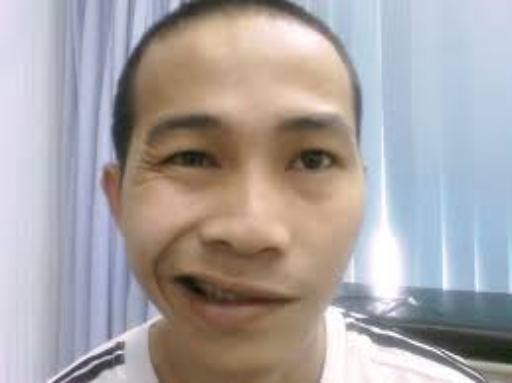left_eye: (284, 150, 344, 176)
left_lip_corner: (276, 285, 305, 314)
right_eye: (158, 151, 226, 174)
right_lip_corner: (168, 267, 194, 289)
